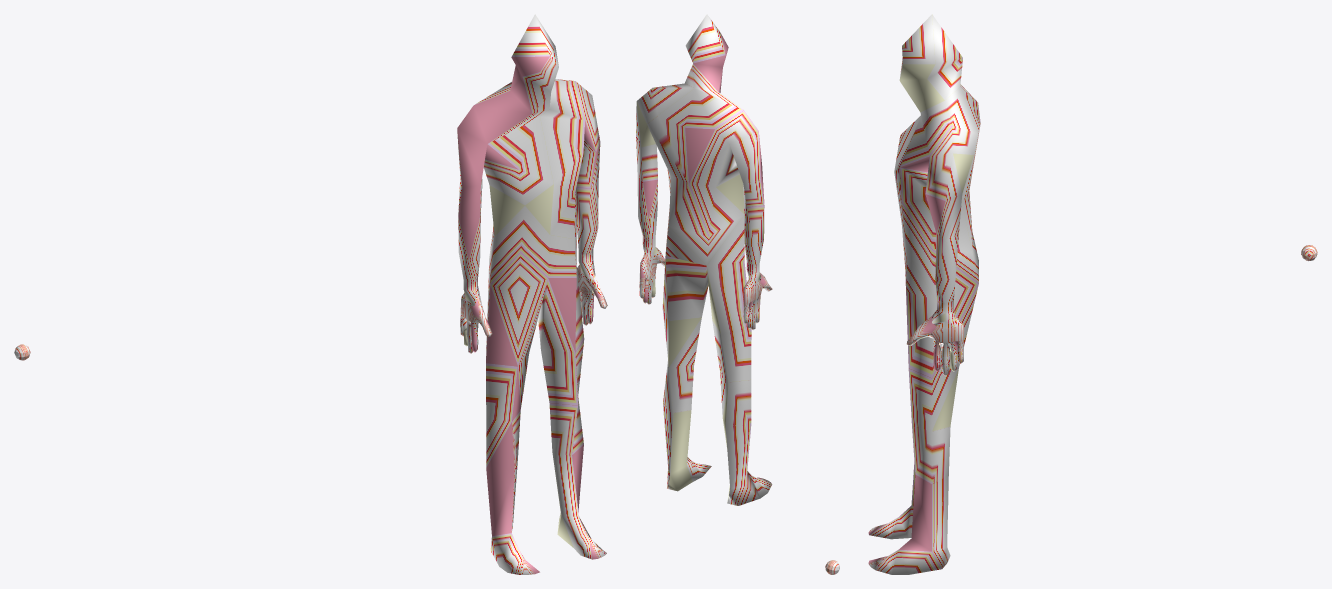
Rendered from JoeSkinTexcoordDisplacerKickUpdate2Export.gltf.
3 views of the same model, side by side, from view 1: azimuth 30°, elevation 25°; view 2: azimuth 150°, elevation 25°; view 3: azimuth 270°, elevation 25° (orthographic). The views are drawn at different scales.
Visible parts, largest first — view 1: Joe_Shape_IndexedFaceSet; view 2: Joe_Shape_IndexedFaceSet; view 3: Joe_Shape_IndexedFaceSet.
Part boxes in pixels (x1=…): Joe_Shape_IndexedFaceSet: x1=457, y1=14, x2=607, y2=574; Joe_Shape_IndexedFaceSet: x1=636, y1=14, x2=772, y2=505; Joe_Shape_IndexedFaceSet: x1=868, y1=14, x2=980, y2=574.
Size of the model in its own units: 1.41 by 1.77 by 1.34.
2 materials, 2 textured.
